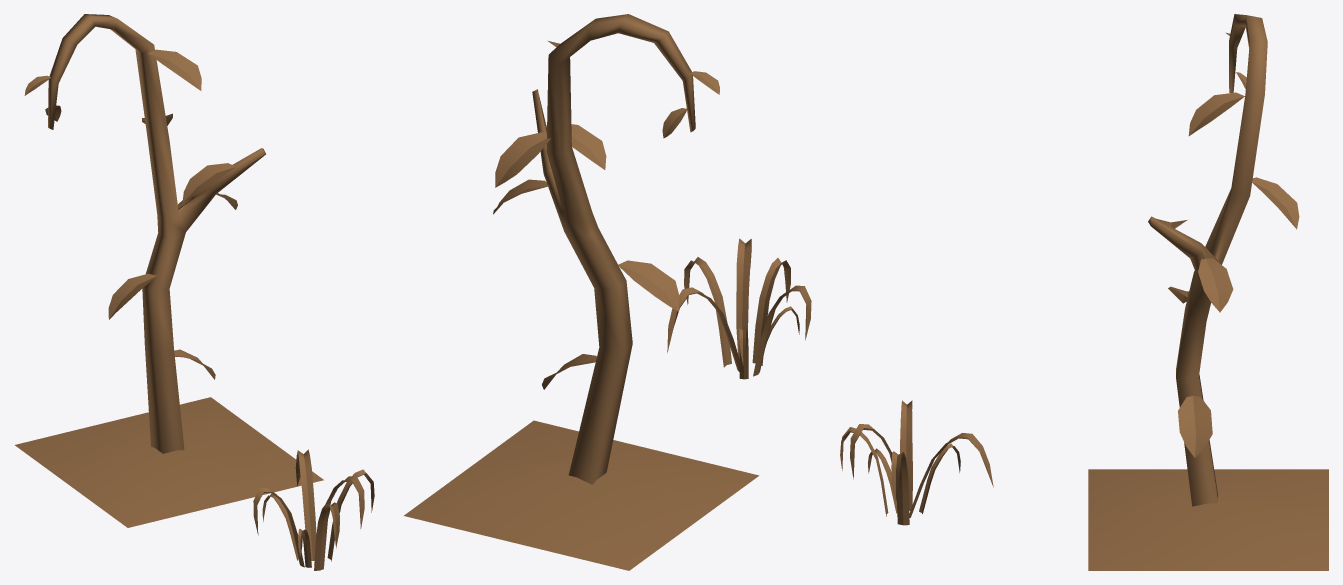
Rendered from DeadplantandWeedTexturingFile.fbx.
3 renders of one model, left to right at view 1: azimuth 30°, elevation 25°; view 2: azimuth 150°, elevation 25°; view 3: azimuth 270°, elevation 25°, orthographic. The views are drawn at different scales.
Parts seen in each view (by area): view 1: SM_Deadplant, SM_Weed; view 2: SM_Deadplant, SM_Weed; view 3: SM_Deadplant, SM_Weed.
Boxes of the visible parts, x1,y1,x2,y2 form: SM_Deadplant: [15, 14, 323, 527]; SM_Weed: [253, 449, 374, 570]; SM_Deadplant: [404, 14, 759, 570]; SM_Weed: [667, 238, 811, 379]; SM_Deadplant: [1088, 14, 1328, 570]; SM_Weed: [840, 400, 993, 525].
Size of the model in its own units: 39.97 by 74.79 by 69.19.
